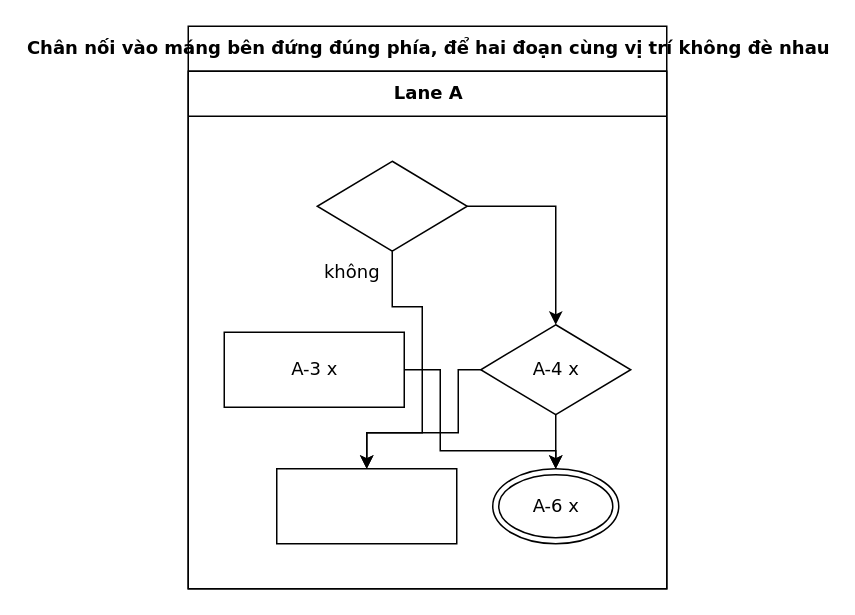
Some shapes in this 855 by 615 pixel diagram are drawn without their labels. The centre of each missing label's shape, as x and y in pixels:
"A-2 x" belongs at [391,205].
"A-5 x" belongs at [366,505].
